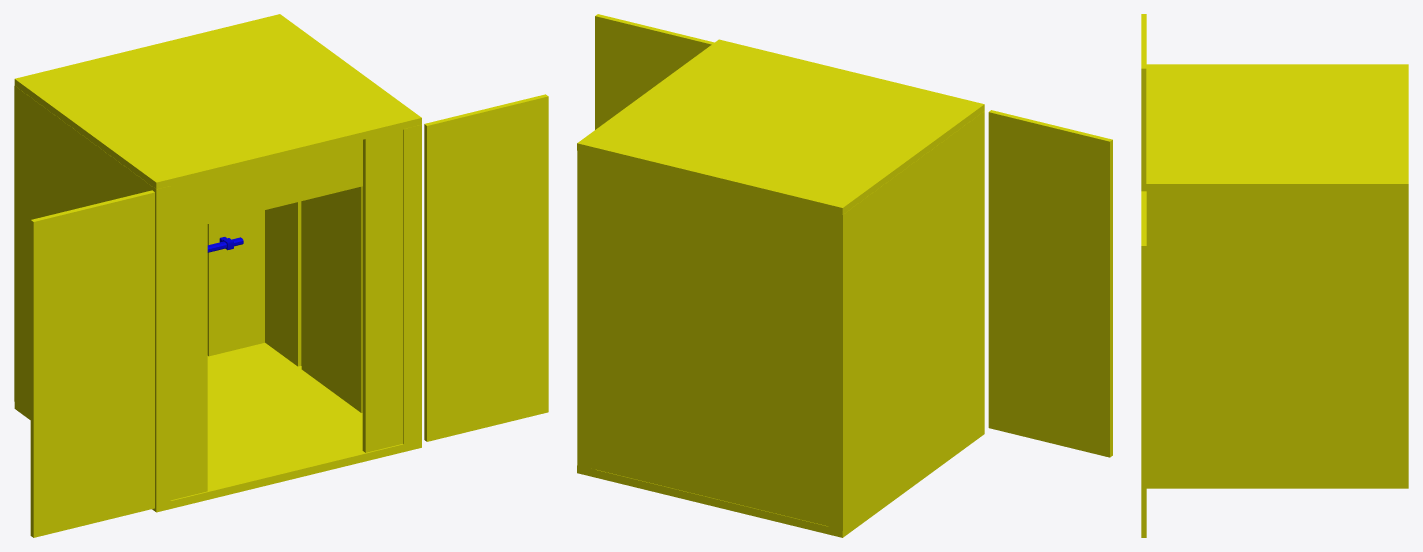
File: elevator_try2.fbx
3 renders of one model, left to right at view 1: azimuth 30°, elevation 25°; view 2: azimuth 150°, elevation 25°; view 3: azimuth 270°, elevation 25°, orthographic. The views are drawn at different scales.
Parts seen in each view (by area): view 1: elev, door1, door2; view 2: elev, door2, door1; view 3: elev, door1, door2.
Boxes of the visible parts, <box> form: elev: <box>14,14,421,512</box>; door1: <box>424,94,548,441</box>; door2: <box>30,190,154,537</box>; elev: <box>577,39,984,537</box>; door2: <box>988,110,1112,457</box>; door1: <box>595,14,714,129</box>; elev: <box>1146,64,1408,488</box>; door1: <box>1141,191,1146,537</box>; door2: <box>1141,14,1146,191</box>.
Size of the model in its own units: 4.6 by 2.81 by 2.24.
